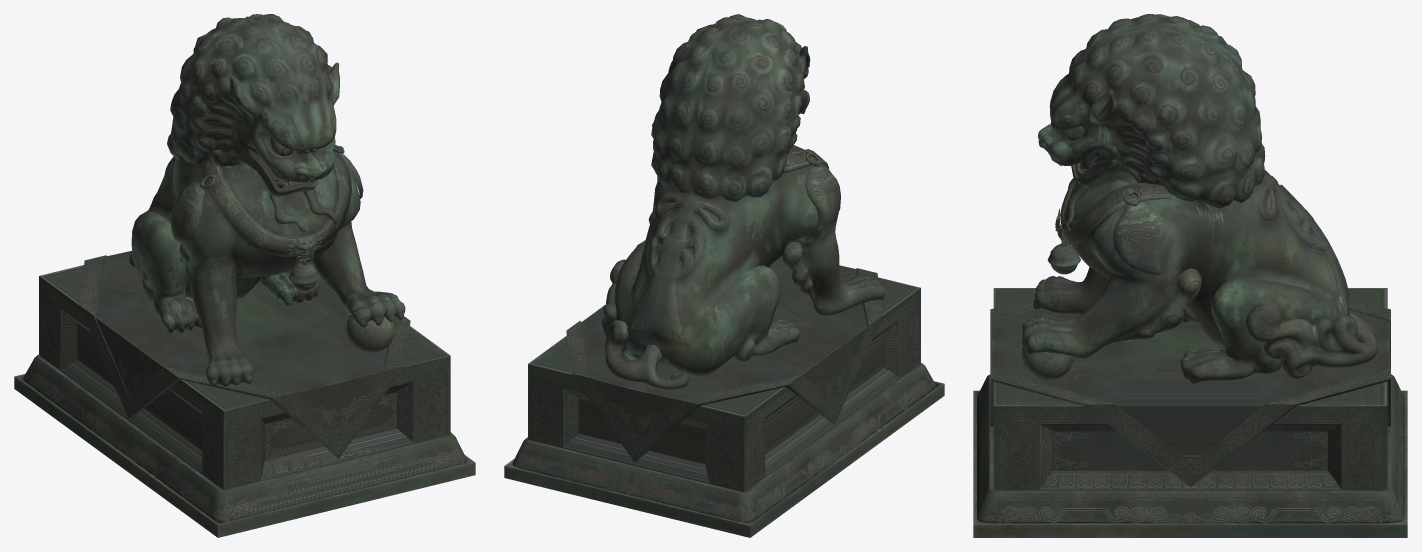
The model's file is stone_lion.glb.
3 renders of one model, left to right at view 1: azimuth 30°, elevation 25°; view 2: azimuth 150°, elevation 25°; view 3: azimuth 270°, elevation 25°, orthographic. The views are drawn at different scales.
Parts seen in each view (by area): view 1: Object_6; view 2: Object_6; view 3: Object_6.
Part boxes in pixels (x1,y1,x2,y2): Object_6: (14,14,475,537); Object_6: (504,14,944,537); Object_6: (973,14,1407,537).
Size of the model in its own units: 69.46 by 109 by 95.1.
Materials: 1 (1 with a texture image).
